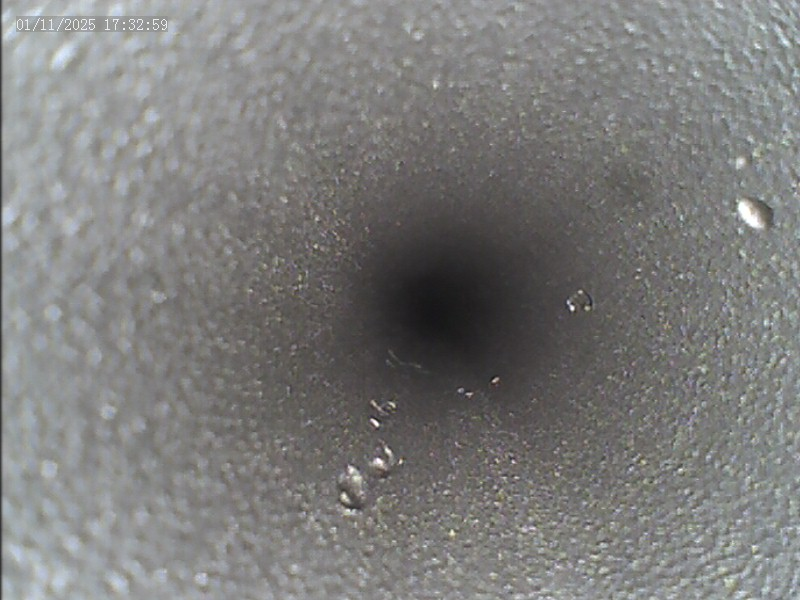defective_area: (338, 196, 771, 514)
